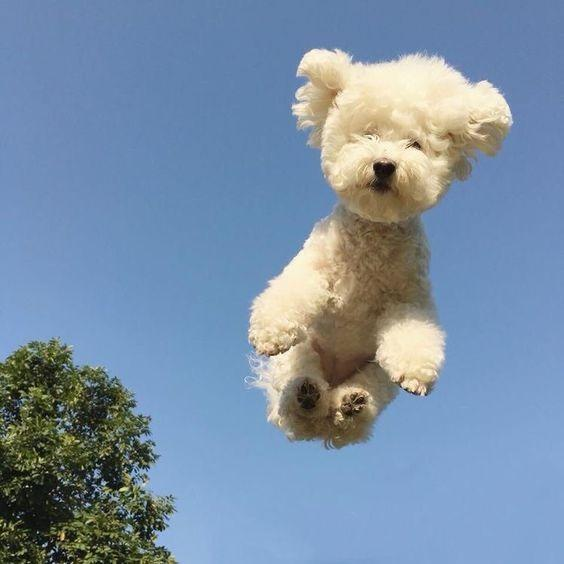puppy-dog: (251, 43, 520, 449)
